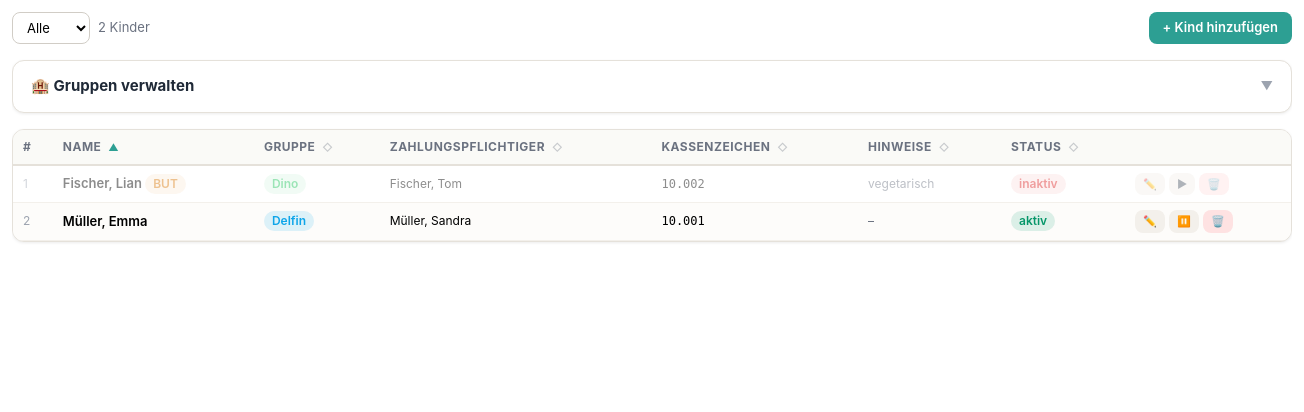
Test: Stammdaten › Gruppen verwalten › shows error when group has children on delete
Click the text "🏨 Gruppen verwalten" at [113, 86], box [31,75,194,98]
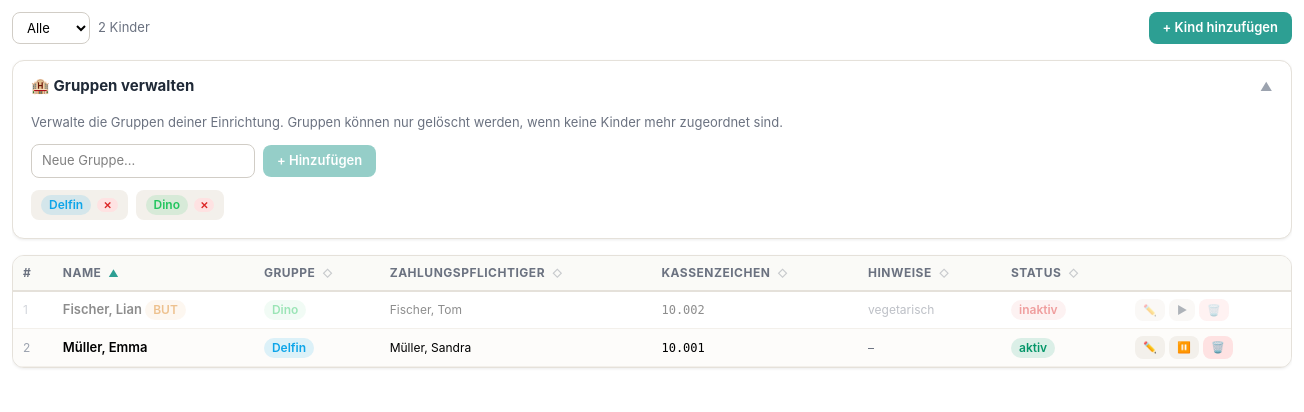
// Click delete on "Delfin" — has children assigned
Click the 1st button "✕" at [107, 205], box [97,198,118,212]
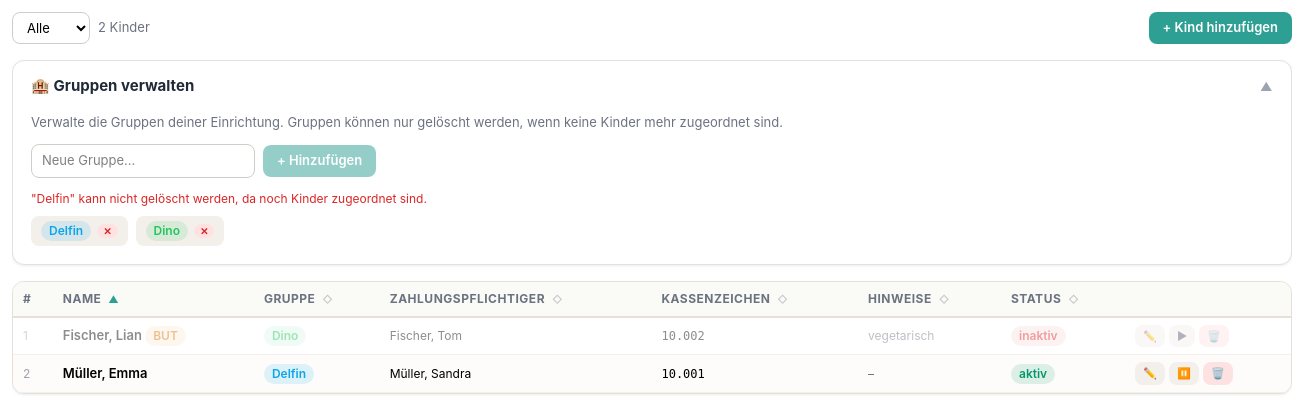
Expected: the text "kann nicht gelöscht werden" is shown, [31,191,427,206]
